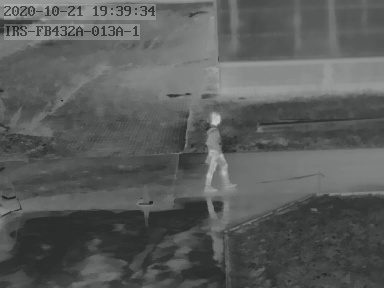person: (199, 111, 228, 188)
